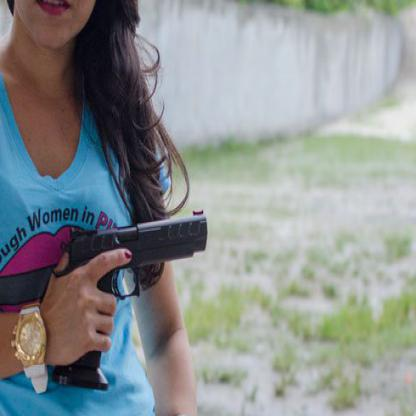gun: (47, 204, 214, 401)
